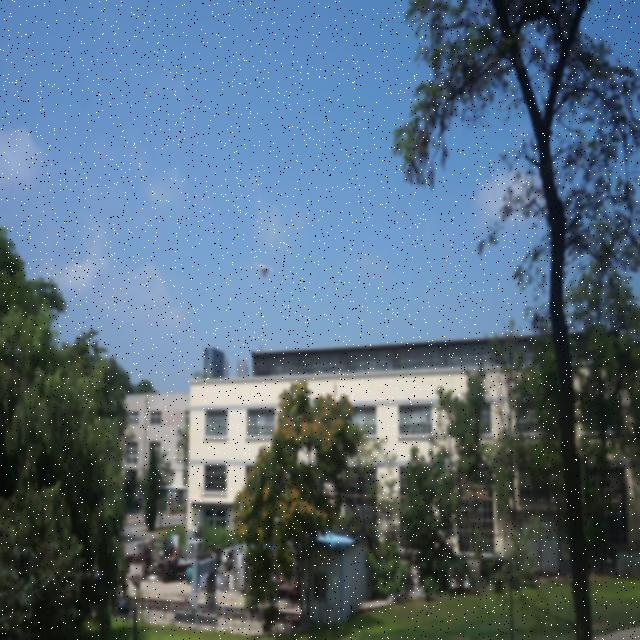UAV: (256, 263, 274, 278)
